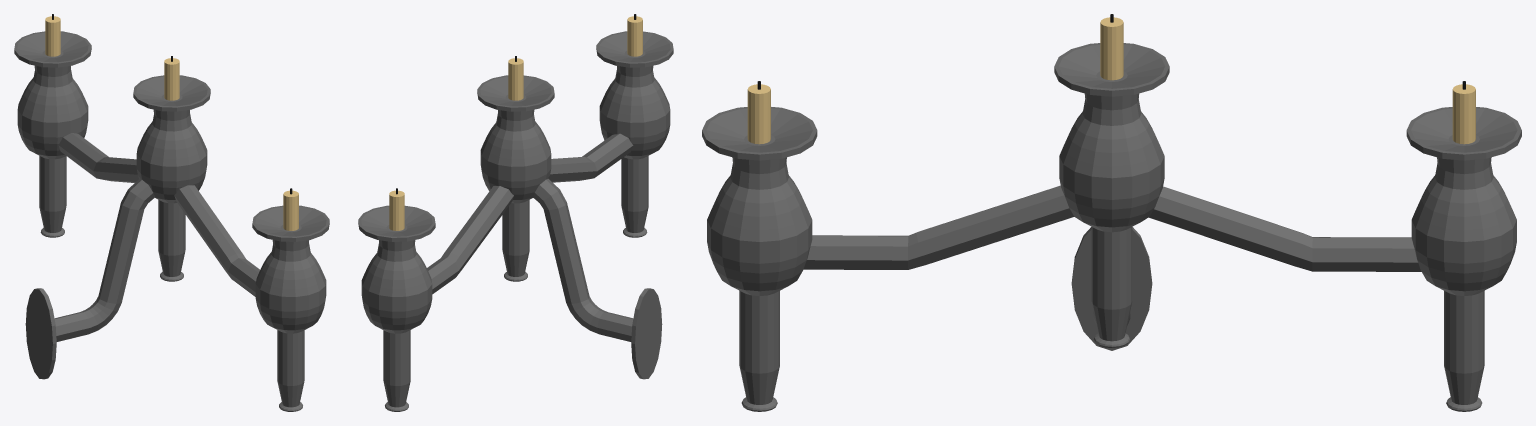
Rendered from lysestage (2).fbx.
The picture shows the model from 3 angles, left to right: view 1: azimuth 30°, elevation 25°; view 2: azimuth 150°, elevation 25°; view 3: azimuth 270°, elevation 25°; orthographic projection. The views are drawn at different scales.
Parts seen in each view (by area): view 1: Circle.004, Circle.003, Circle.001, Cylinder, Cylinder.002, Circle, Cylinder.001, Circle.002, Circle.006, Circle.005; view 2: Circle.003, Circle.001, Circle.004, Cylinder, Cylinder.001, Circle, Cylinder.002, Circle.002, Circle.005, Circle.006; view 3: Circle.001, Circle.004, Circle.003, Cylinder.001, Cylinder.002, Circle, Circle.002, Circle.006, Circle.005.
Boxes of the visible parts, x1,y1,x2,y2 form: Circle.004: (252, 205, 329, 411); Circle.003: (14, 31, 91, 237); Circle.001: (133, 75, 210, 281); Cylinder: (54, 178, 154, 341); Cylinder.002: (174, 185, 259, 296); Circle: (25, 288, 56, 379); Cylinder.001: (58, 133, 138, 182); Circle.002: (164, 56, 179, 100); Circle.006: (45, 14, 60, 56); Circle.005: (283, 188, 298, 230); Circle.003: (358, 205, 435, 411); Circle.001: (477, 75, 554, 281); Circle.004: (596, 31, 673, 237); Cylinder: (533, 178, 633, 341); Cylinder.001: (427, 186, 513, 294); Circle: (631, 288, 662, 379); Cylinder.002: (549, 133, 633, 182); Circle.002: (508, 56, 523, 100); Circle.005: (627, 14, 642, 56); Circle.006: (389, 188, 404, 230); Circle.001: (1054, 43, 1169, 347); Circle.004: (702, 107, 817, 411); Circle.003: (1406, 107, 1521, 411); Cylinder.001: (1149, 186, 1421, 271); Cylinder.002: (803, 185, 1074, 269); Circle: (1071, 227, 1152, 350); Circle.002: (1100, 14, 1123, 80); Circle.006: (1452, 81, 1475, 144); Circle.005: (747, 81, 770, 144).
Bounding box in the file's own units: 807 × 1345 × 2328.
